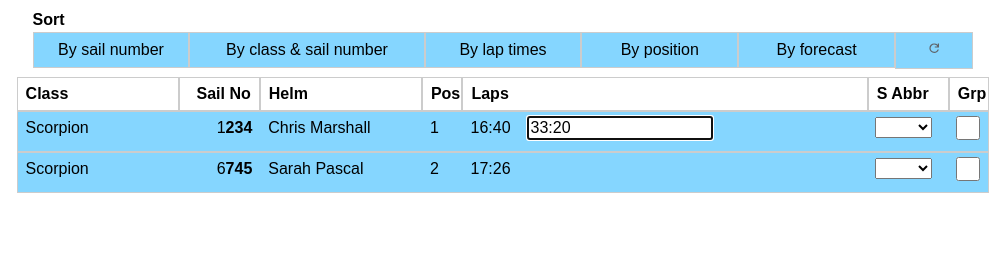
Test: when updating a lap time › displays an error message when RaceEntryView fails validation of an updated lap time
Replace the text in the field with "0150012": [620, 128] box [527,116,713,140]
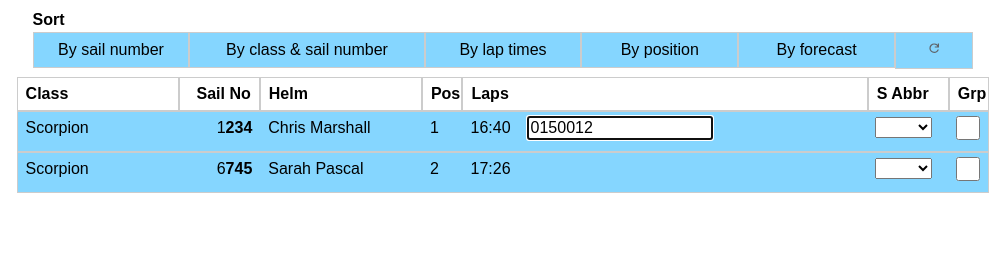
Press Enter
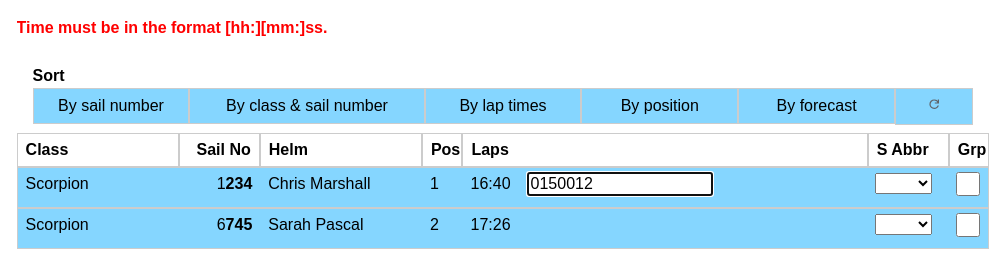
Check: the text "Time must be in the format [hh:][mm:]ss." is shown, box [17,19,327,36]
